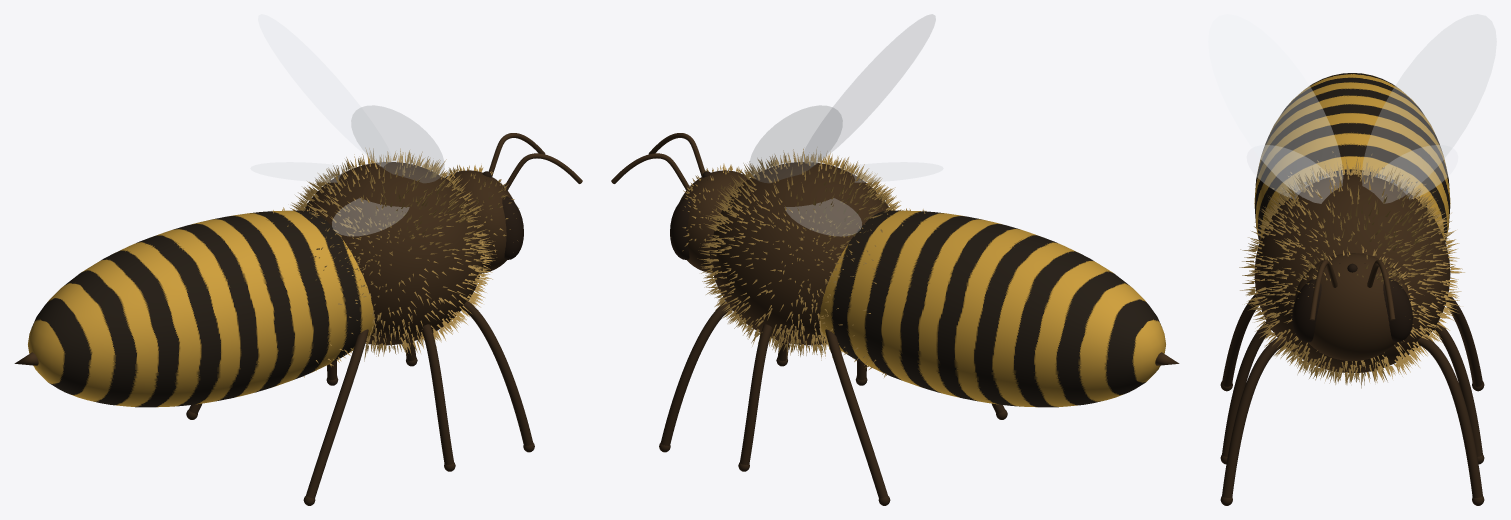
File: bee-hero-cerana-queen.glb
3 renders of one model, left to right at view 1: azimuth 30°, elevation 25°; view 2: azimuth 150°, elevation 25°; view 3: azimuth 270°, elevation 25°, orthographic. The views are drawn at different scales.
Visible parts, largest first — view 1: abdomen, thorax, fuzz_thorax, foreWingL, foreWingR, head, hindWingR, hindLegR, foreLegR, midLegR, hindWingL, compoundEyeR; view 2: abdomen, thorax, fuzz_thorax, foreWingR, foreWingL, head, hindWingL, hindLegL, foreLegL, midLegL, hindWingR, compoundEyeL; view 3: thorax, abdomen, foreWingL, foreWingR, fuzz_thorax, head, hindWingL, hindWingR, foreLegL, foreLegR, midLegL, midLegR (+7 smaller).
Boxes of the visible parts, x1,y1,x2,y2 form: abdomen: [28, 210, 374, 407]; thorax: [304, 162, 483, 345]; fuzz_thorax: [290, 148, 496, 361]; foreWingL: [258, 14, 393, 166]; foreWingR: [351, 105, 444, 182]; head: [444, 170, 514, 273]; hindWingR: [332, 198, 409, 236]; hindLegR: [306, 329, 368, 498]; foreLegR: [462, 301, 533, 445]; midLegR: [421, 324, 453, 464]; hindWingL: [250, 162, 353, 182]; compoundEyeR: [502, 196, 523, 259]; abdomen: [819, 210, 1165, 407]; thorax: [710, 162, 888, 345]; fuzz_thorax: [697, 148, 904, 360]; foreWingR: [802, 14, 935, 166]; foreWingL: [749, 105, 842, 182]; head: [679, 170, 747, 273]; hindWingL: [784, 198, 861, 236]; hindLegL: [825, 329, 887, 498]; foreLegL: [660, 301, 731, 445]; midLegL: [740, 324, 772, 464]; hindWingR: [840, 162, 943, 182]; compoundEyeL: [670, 196, 691, 259]; thorax: [1254, 174, 1450, 372]; abdomen: [1254, 73, 1450, 242]; foreWingL: [1362, 14, 1496, 203]; foreWingR: [1208, 14, 1342, 203]; fuzz_thorax: [1239, 156, 1464, 388]; head: [1293, 253, 1411, 360]; hindWingL: [1375, 145, 1457, 198]; hindWingR: [1247, 145, 1329, 198]; foreLegL: [1416, 336, 1482, 497]; foreLegR: [1222, 337, 1287, 497]; midLegL: [1433, 321, 1482, 456]; midLegR: [1222, 321, 1271, 456].
Bounding box in the file's own units: 1.3 × 0.867 × 0.5515.
Materials: 6 (1 with a texture image).
